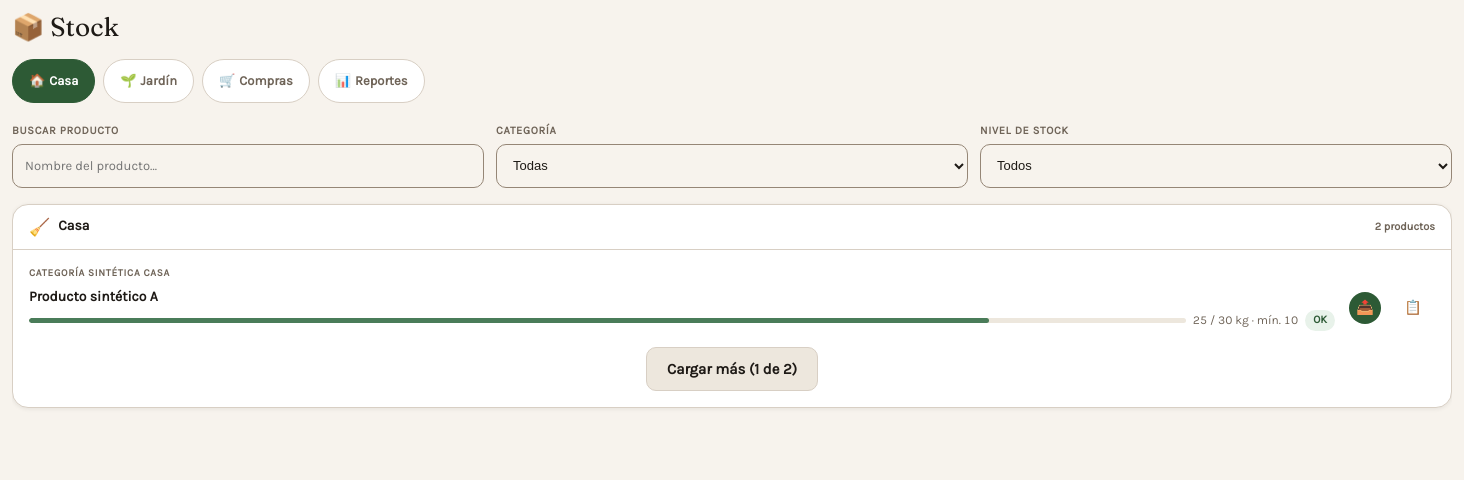
Test case: Stock — paginación › «Cargar más» pide la página siguiente y acumula
Expected: the text "Producto sintético A" is shown, [29,288,158,305]
Click the button "Cargar más (1 de 2)" at (732, 369), box [646,347,818,391]
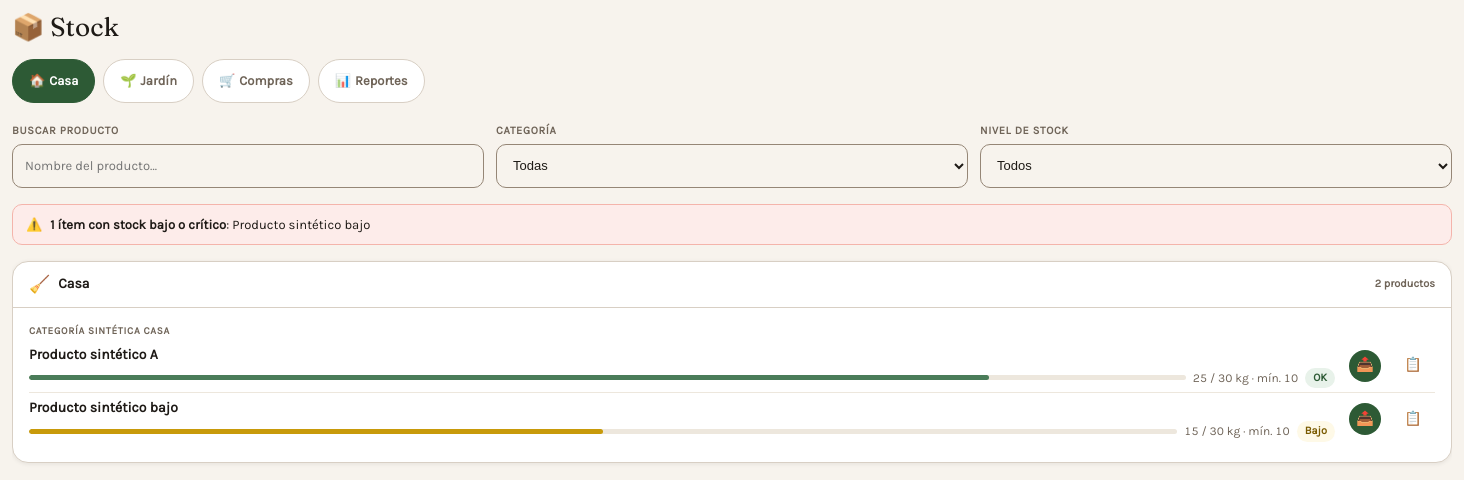
Expected: the text "Producto sintético bajo" is shown, [29,399,178,416]
Expected: the text "Producto sintético A" is shown once, [29,346,158,363]
